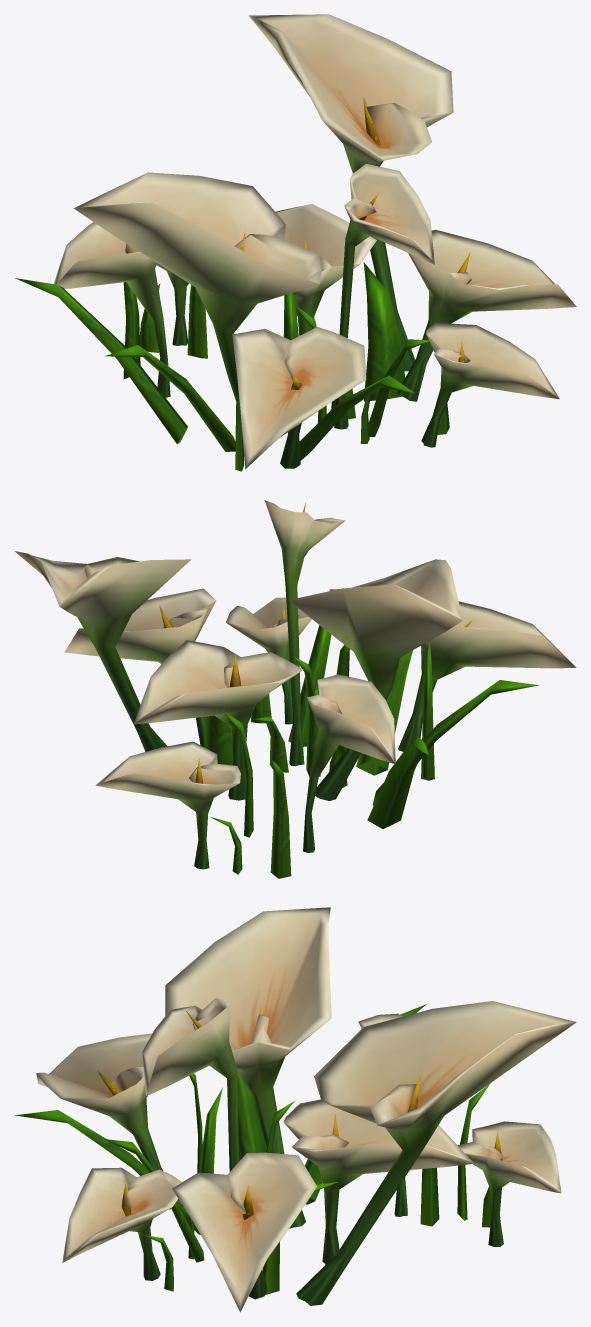
The model's file is Flower_03.FBX.
The picture shows the model from 3 angles, top to bottom: view 1: azimuth 30°, elevation 25°; view 2: azimuth 150°, elevation 25°; view 3: azimuth 270°, elevation 25°; orthographic projection. The views are drawn at different scales.
Parts seen in each view (by area): view 1: Flower_03; view 2: Flower_03; view 3: Flower_03.
Boxes of the visible parts, <box> form: Flower_03: <box>15,14,576,471</box>; Flower_03: <box>14,500,576,878</box>; Flower_03: <box>15,907,576,1312</box>.
Size of the model in its own units: 17.08 by 9.97 by 17.06.
1 material, 1 textured.
